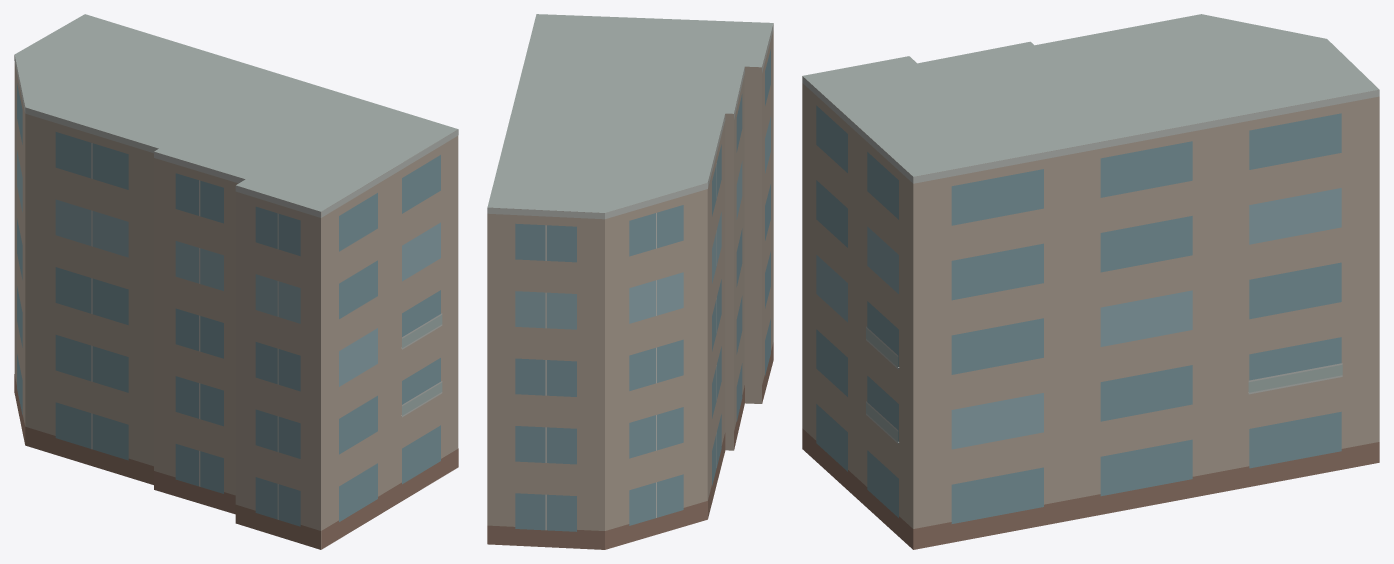
File: survey-upis-32925401.glb
3 renders of one model, left to right at view 1: azimuth 30°, elevation 25°; view 2: azimuth 150°, elevation 25°; view 3: azimuth 270°, elevation 25°, orthographic. The views are drawn at different scales.
Parts seen in each view (by area): view 1: survey-upis-32925401.tmp; view 2: survey-upis-32925401.tmp; view 3: survey-upis-32925401.tmp.
Boxes of the visible parts, bbox=[...] form: survey-upis-32925401.tmp: bbox=[14, 14, 458, 549]; survey-upis-32925401.tmp: bbox=[487, 14, 773, 549]; survey-upis-32925401.tmp: bbox=[802, 14, 1379, 549].
Bounding box in the file's own units: 12.37 × 13.2 × 18.53.
